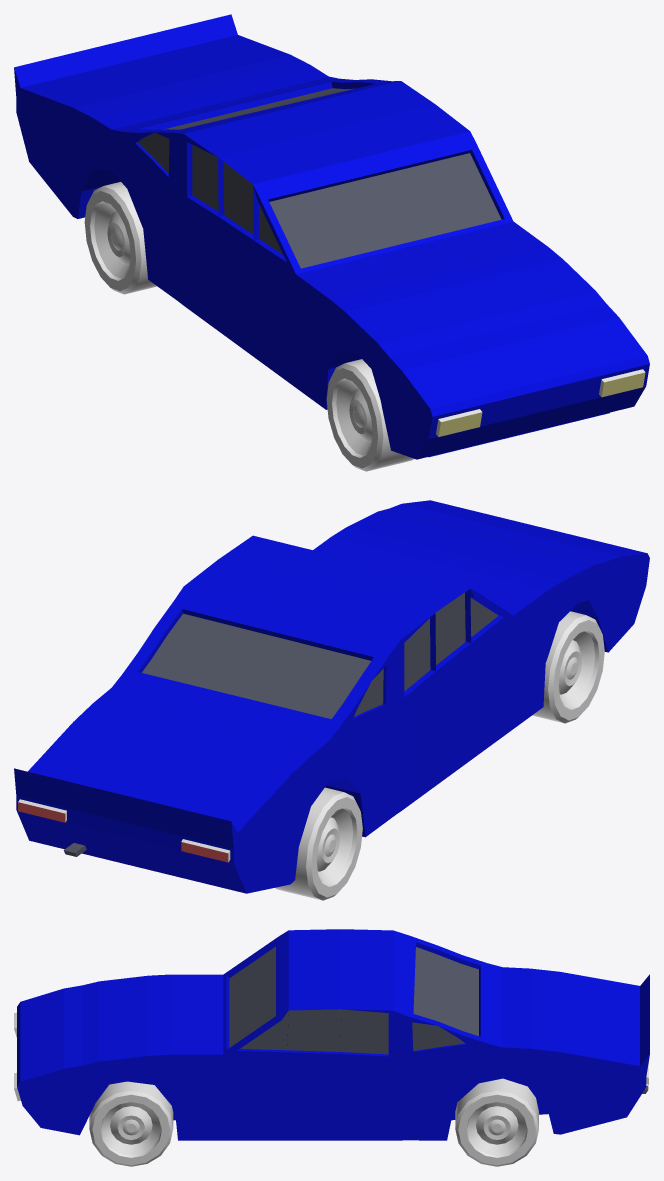
File: Camaroz28.fbx
3 views of the same model, one above another, from view 1: azimuth 30°, elevation 25°; view 2: azimuth 150°, elevation 25°; view 3: azimuth 270°, elevation 25° (orthographic). The views are drawn at different scales.
Visible parts, largest first — view 1: Camaroz28, Right_front_wheel, Right_back_wheel; view 2: Camaroz28, Right_back_wheel, Right_front_wheel; view 3: Camaroz28, Left_back_wheel, Left_front_wheel.
Boxes of the visible parts, x1,y1,x2,y2 form: Camaroz28: (14,14,649,459); Right_front_wheel: (326,359,413,471); Right_back_wheel: (84,182,157,294); Camaroz28: (14,500,649,893); Right_back_wheel: (275,787,362,900); Right_front_wheel: (532,611,604,723); Camaroz28: (14,929,649,1140); Left_back_wheel: (455,1078,538,1166); Left_front_wheel: (89,1081,173,1166).
Bounding box in the file's own units: 3.23 × 2.86 × 10.45.
